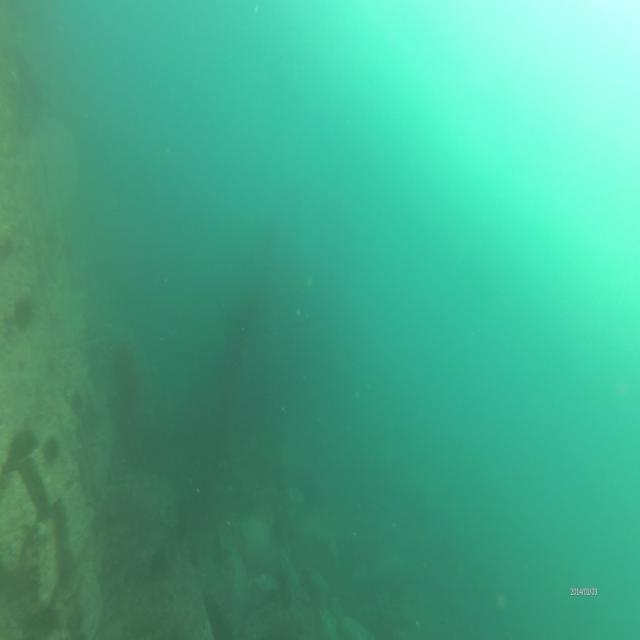echinus: (8, 424, 39, 464), (14, 297, 35, 335), (44, 432, 60, 469), (68, 388, 83, 416), (0, 236, 14, 266)
